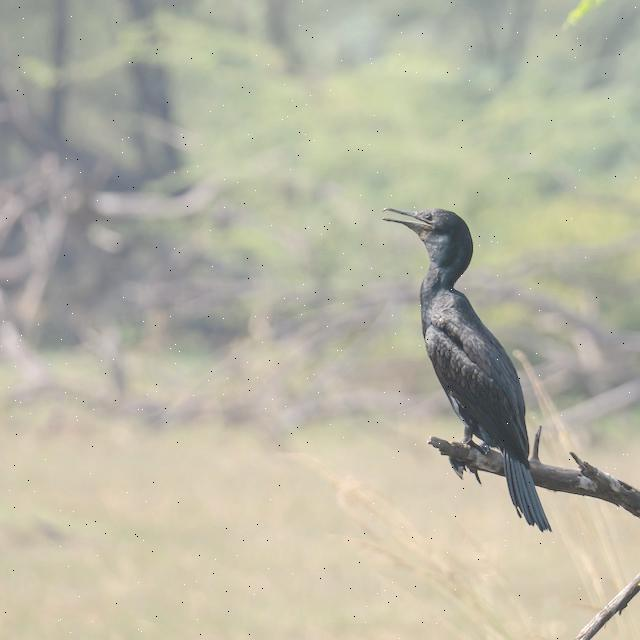cormorant: (375, 198, 549, 538)
